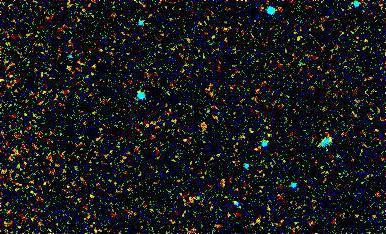star: (174, 127, 204, 157)
